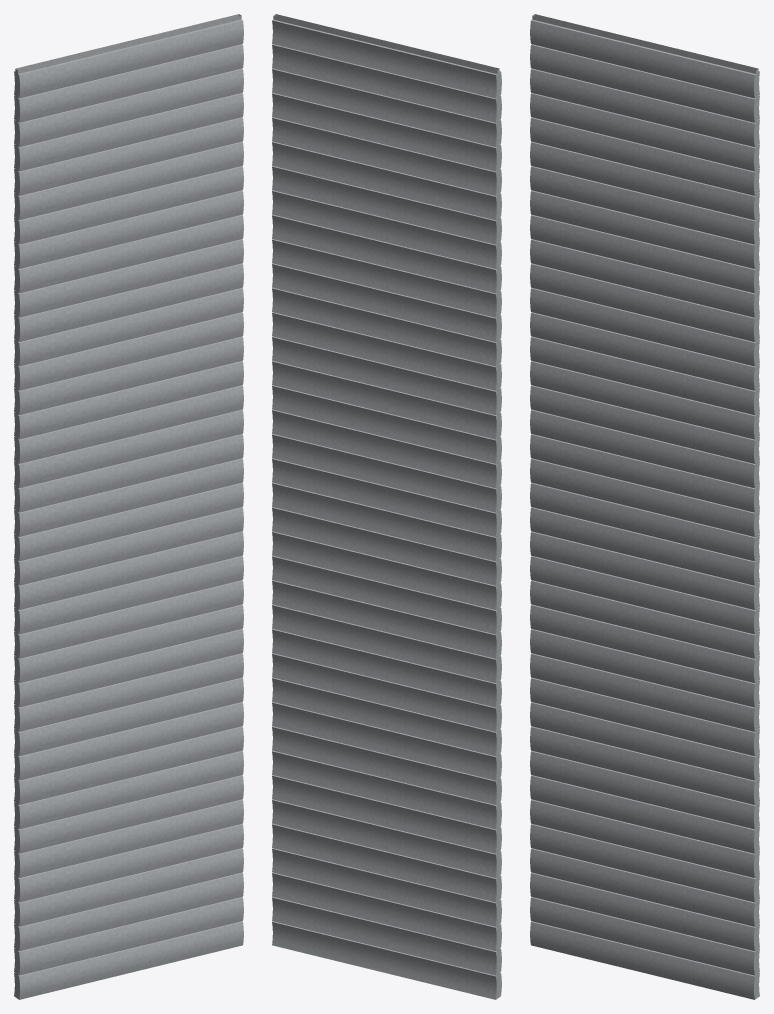
File: shutter.fbx
3 renders of one model, left to right at view 1: azimuth 30°, elevation 25°; view 2: azimuth 150°, elevation 25°; view 3: azimuth 330°, elevation 25°, orthographic.
Parts seen in each view (by area): view 1: Shutters; view 2: Shutters; view 3: Shutters.
Boxes of the visible parts, x1,y1,x2,y2 form: Shutters: (14,14,243,999); Shutters: (272,14,501,999); Shutters: (530,14,759,999).
Size of the model in its own units: 100 by 396 by 4.7.
1 material, 1 textured.
